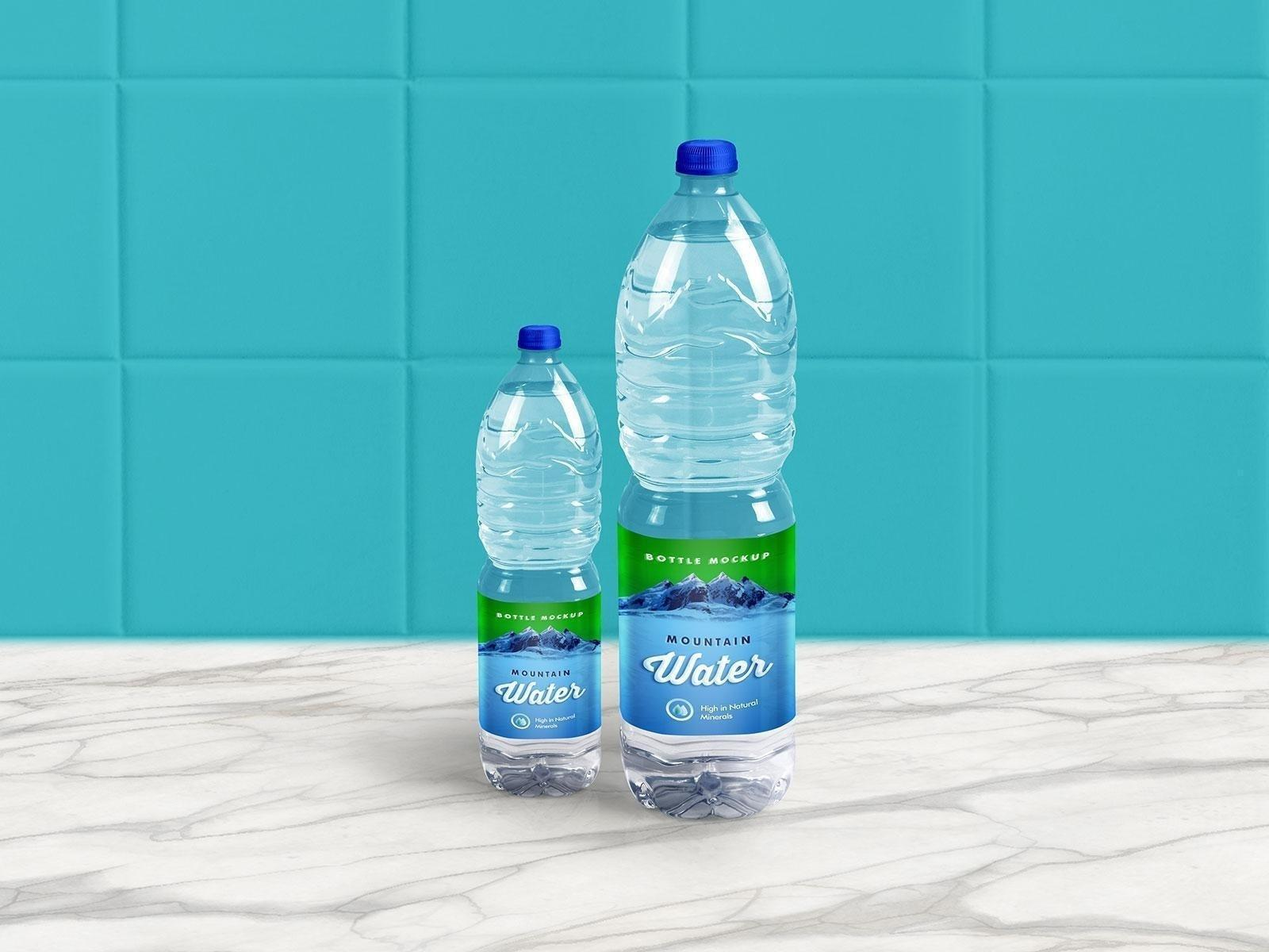bottle-plastic: (604, 133, 803, 825), (472, 318, 610, 803)
